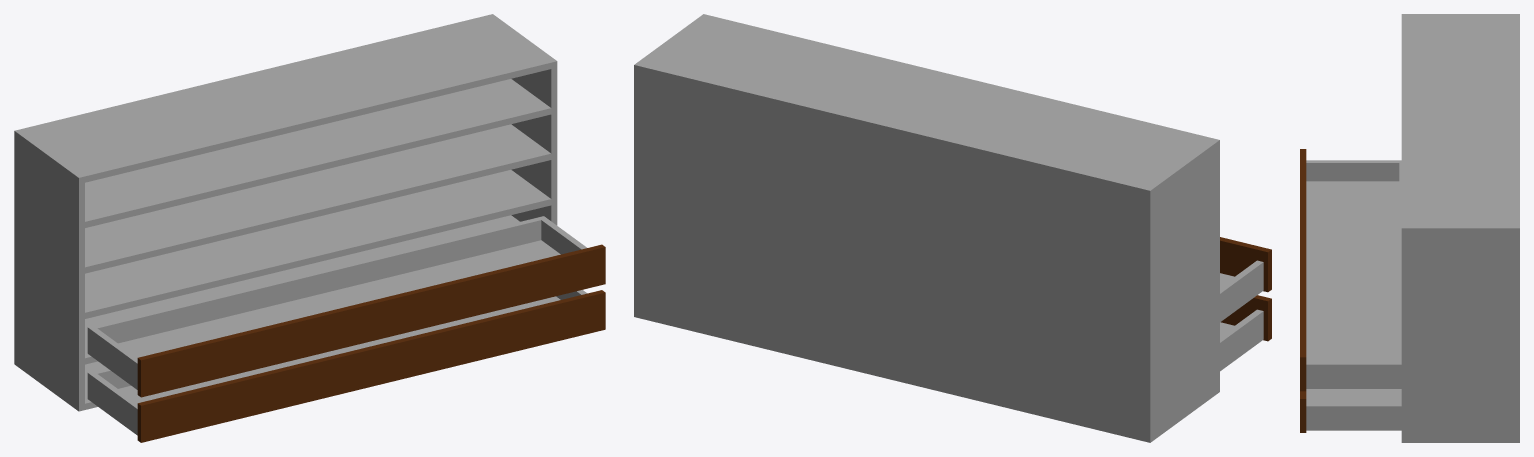
Rendered from meuble_690180ce50b5b.glb.
3 views of the same model, side by side, from view 1: azimuth 30°, elevation 25°; view 2: azimuth 150°, elevation 25°; view 3: azimuth 270°, elevation 25° (orthographic). The views are drawn at different scales.
Visible parts, largest first — view 1: world; view 2: world; view 3: world.
Part boxes in pixels (left/top/right/bottom): world: left=14, top=14, right=605, bottom=442; world: left=634, top=14, right=1271, bottom=442; world: left=1300, top=14, right=1519, bottom=442.
Size of the model in its own units: 1.5 by 0.7 by 0.65.
Materials: 1 (1 with a texture image).
